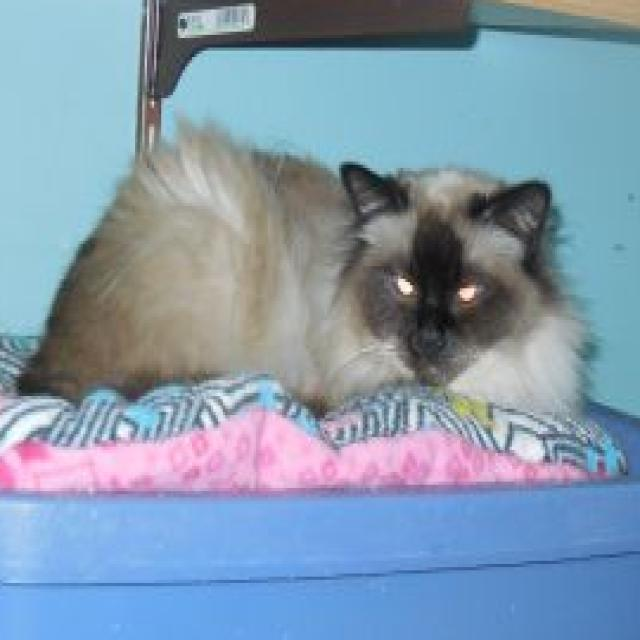Birman: (14, 112, 604, 430)
